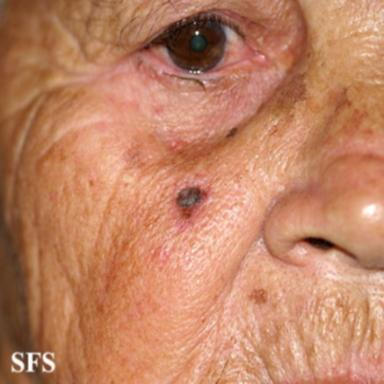basal-cell-carcinoma: (175, 187, 208, 218)
